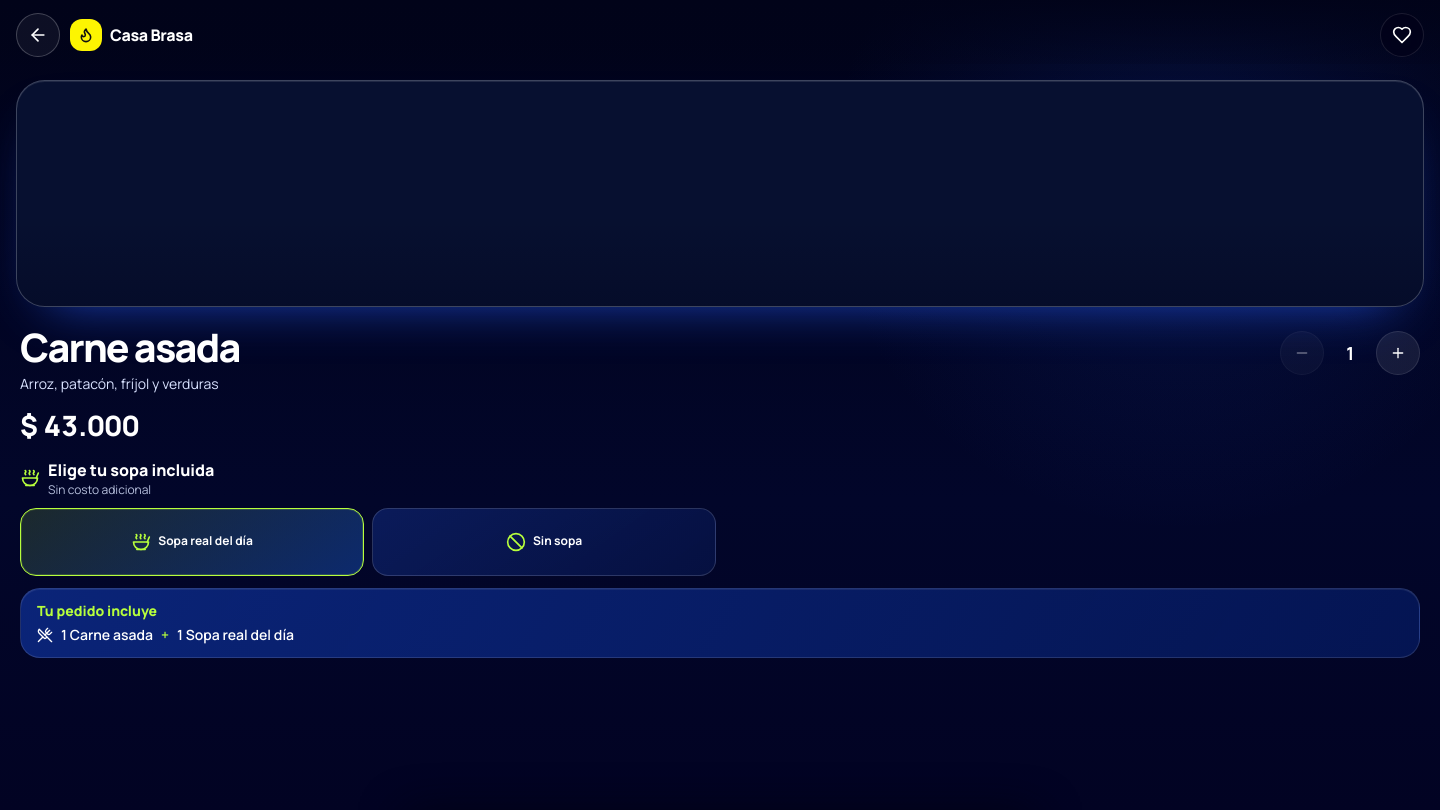
Scenario: detalle dependiente del servicio › en almuerzo selecciona por defecto la primera sopa y permite Sin sopa
Click the radio button labelled "Sin sopa".
click(544, 542)  # box x1=372 y1=508 x2=716 y2=576
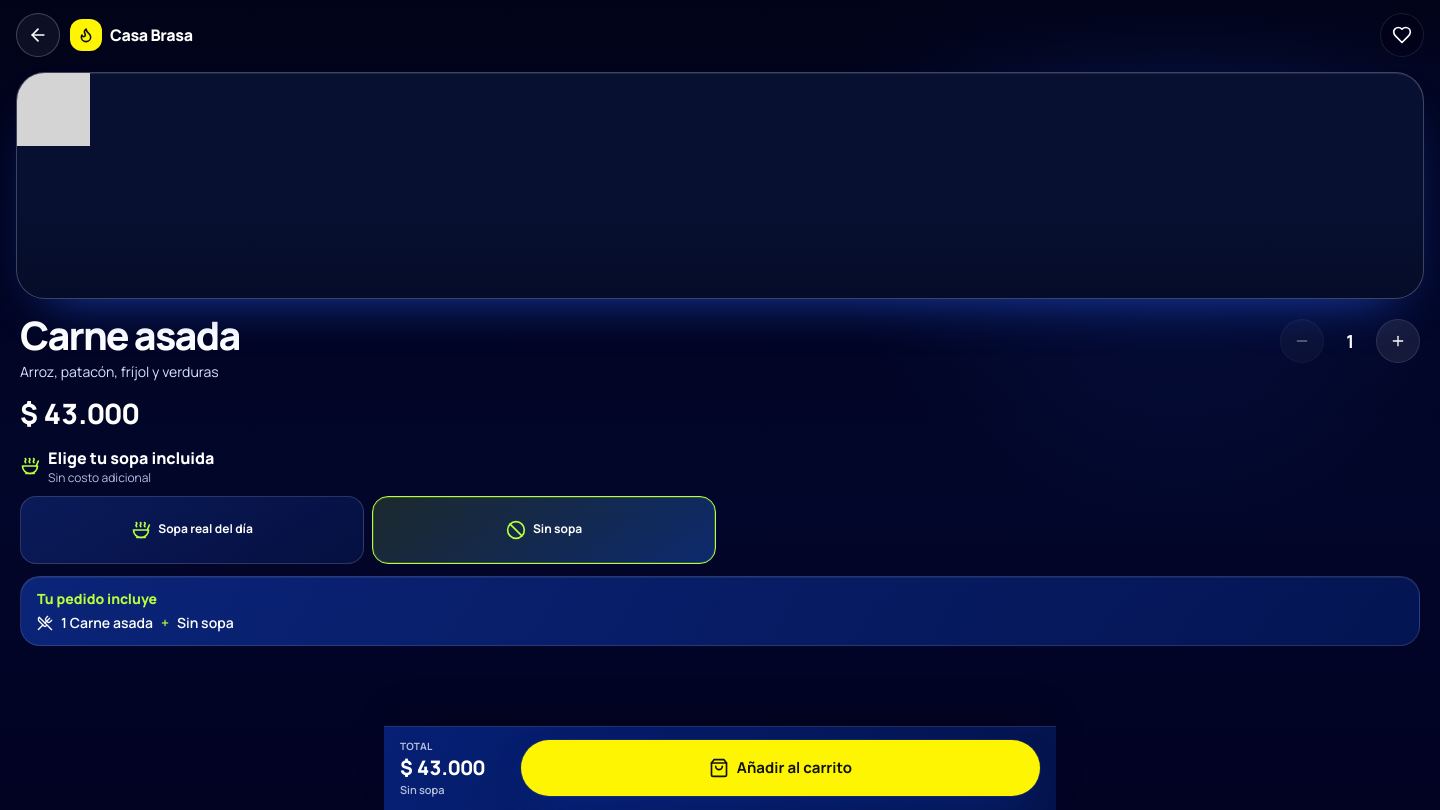
Now the element with test id "detail-order-summary" shows "Sin sopa", box x1=177 y1=612 x2=234 y2=632
